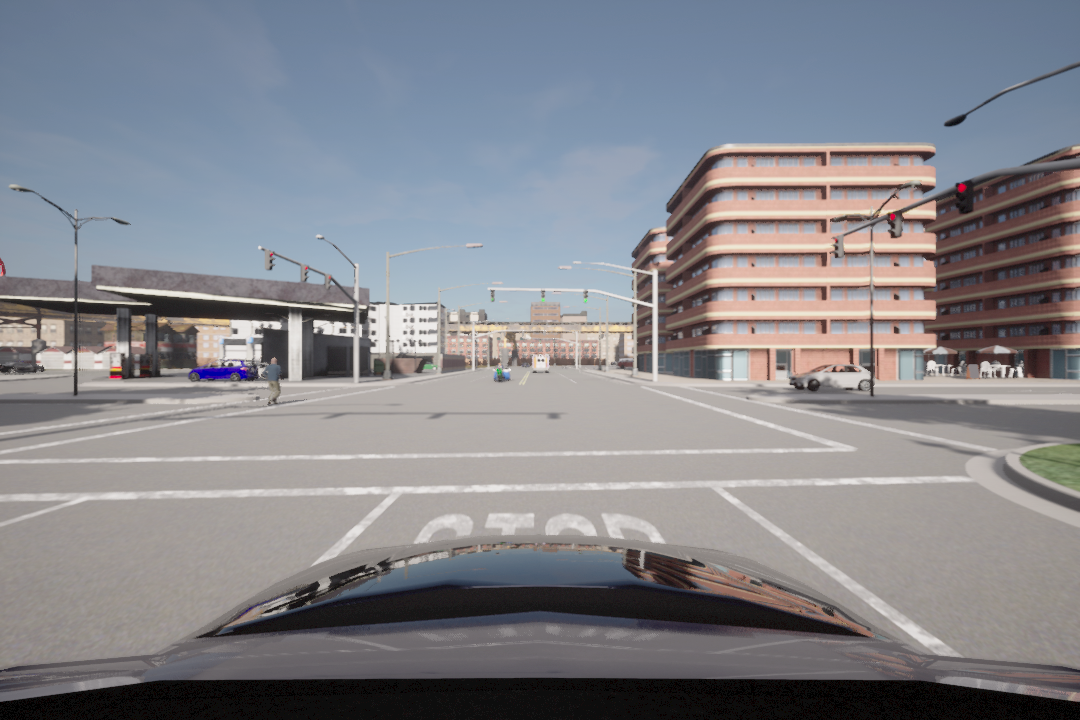TrafficLight: (955, 179, 976, 215), (884, 208, 905, 240), (832, 234, 847, 260), (263, 247, 277, 273), (298, 263, 308, 284), (322, 273, 332, 294), (583, 290, 589, 306), (489, 288, 495, 301), (540, 290, 545, 302)
